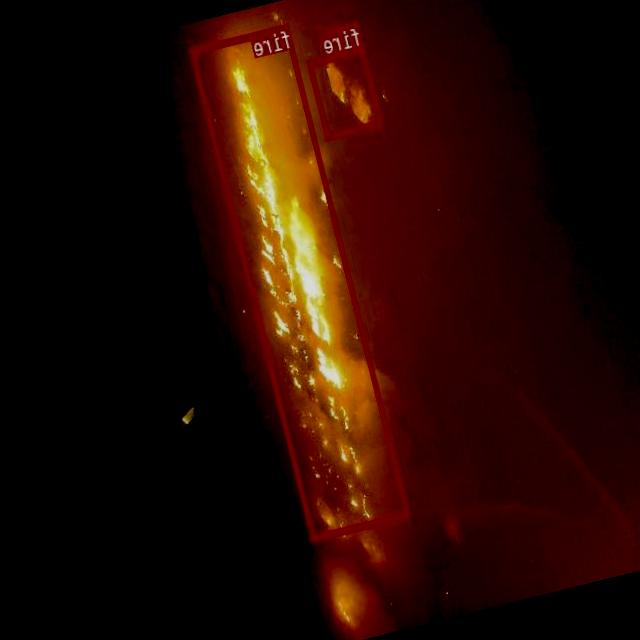fire: (190, 21, 412, 540), (307, 44, 384, 138)
